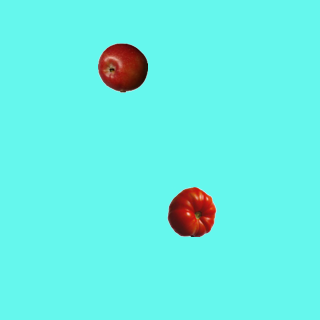Apple Braeburn: (97, 42, 147, 92)
Tomato 3: (166, 186, 216, 236)
